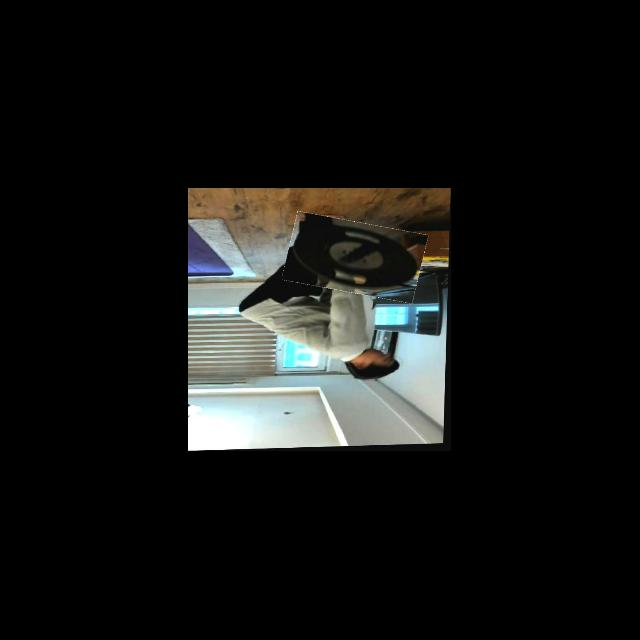barbell: (284, 215, 426, 301)
